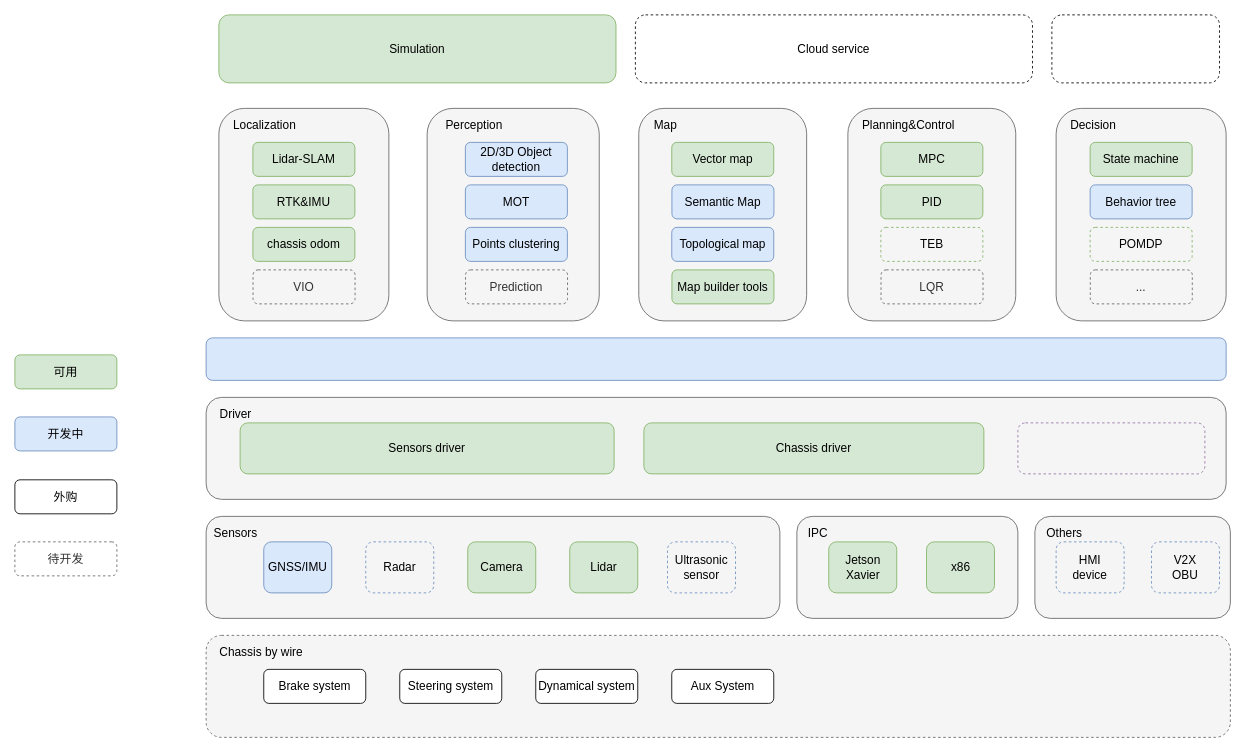
Image size: 1245x752. Some labels were removed from this diagram. Here are the shapes that lost their labels. From the top down, the centre of each, then its label:
(1135,48): Data platform
(715,358): ROS2
(1111,448): V2X adapter
